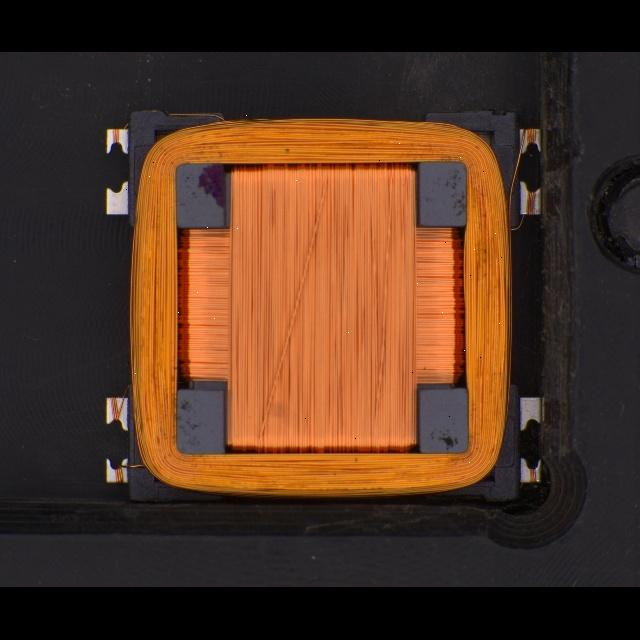Winding_Z: (120, 110, 518, 500)
